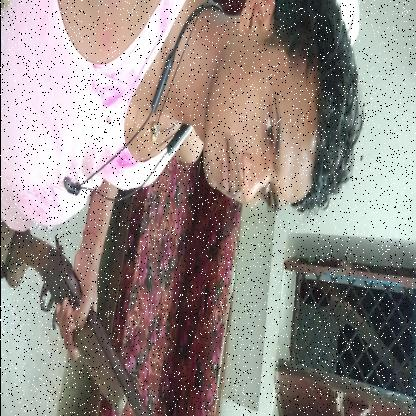rifle: (0, 226, 150, 416)
